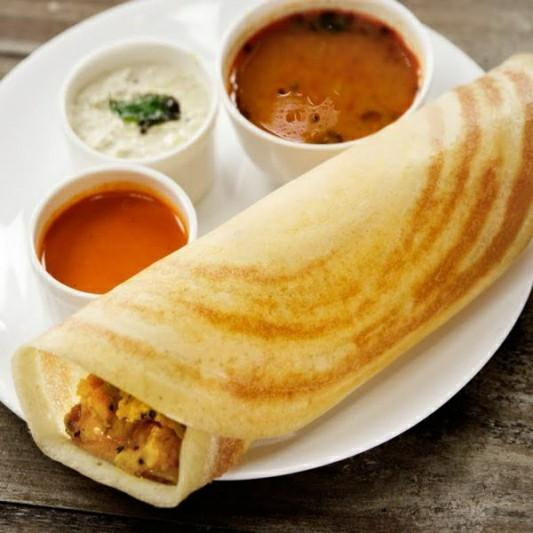CoconutChutney: (74, 61, 210, 159)
Dosa: (12, 54, 533, 505)
